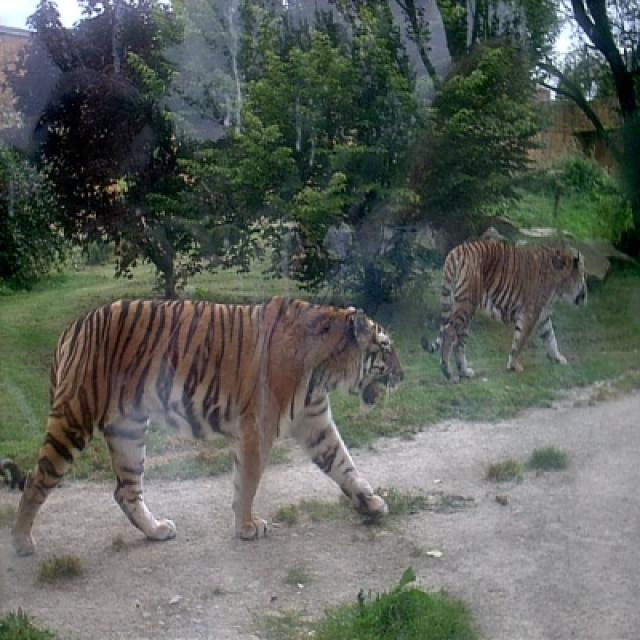Tiger: (13, 296, 402, 554), (440, 240, 584, 374)
